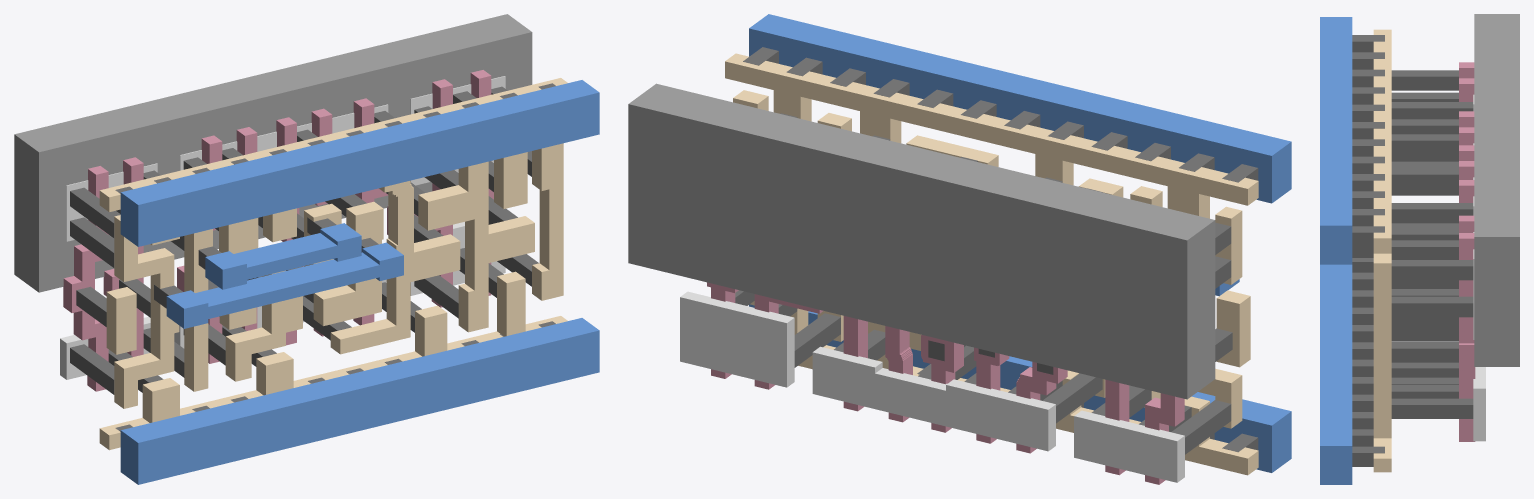
The model's file is sky130_fd_sc_hd__dlxtn_1.gds.gltf.
3 views of the same model, side by side, from view 1: azimuth 30°, elevation 25°; view 2: azimuth 150°, elevation 25°; view 3: azimuth 270°, elevation 25° (orthographic). The views are drawn at different scales.
Parts seen in each view (by area): view 1: sky130_fd_sc_hd__dlxtn_1_met1, sky130_fd_sc_hd__dlxtn_1_li1, sky130_fd_sc_hd__dlxtn_1_nwell, sky130_fd_sc_hd__dlxtn_1_licon, sky130_fd_sc_hd__dlxtn_1_poly, sky130_fd_sc_hd__dlxtn_1_diff, sky130_fd_sc_hd__dlxtn_1_mcon; view 2: sky130_fd_sc_hd__dlxtn_1_nwell, sky130_fd_sc_hd__dlxtn_1_li1, sky130_fd_sc_hd__dlxtn_1_met1, sky130_fd_sc_hd__dlxtn_1_diff, sky130_fd_sc_hd__dlxtn_1_poly, sky130_fd_sc_hd__dlxtn_1_licon, sky130_fd_sc_hd__dlxtn_1_mcon; view 3: sky130_fd_sc_hd__dlxtn_1_licon, sky130_fd_sc_hd__dlxtn_1_nwell, sky130_fd_sc_hd__dlxtn_1_met1, sky130_fd_sc_hd__dlxtn_1_mcon, sky130_fd_sc_hd__dlxtn_1_li1, sky130_fd_sc_hd__dlxtn_1_poly, sky130_fd_sc_hd__dlxtn_1_diff.
Boxes of the visible parts, x1,y1,x2,y2 form: sky130_fd_sc_hd__dlxtn_1_met1: (120, 80, 599, 484); sky130_fd_sc_hd__dlxtn_1_li1: (99, 78, 567, 450); sky130_fd_sc_hd__dlxtn_1_nwell: (14, 14, 532, 292); sky130_fd_sc_hd__dlxtn_1_licon: (70, 86, 538, 394); sky130_fd_sc_hd__dlxtn_1_poly: (63, 70, 493, 391); sky130_fd_sc_hd__dlxtn_1_diff: (60, 76, 505, 379); sky130_fd_sc_hd__dlxtn_1_mcon: (115, 83, 555, 431); sky130_fd_sc_hd__dlxtn_1_nwell: (628, 83, 1215, 399); sky130_fd_sc_hd__dlxtn_1_li1: (725, 53, 1258, 475); sky130_fd_sc_hd__dlxtn_1_met1: (749, 14, 1291, 472); sky130_fd_sc_hd__dlxtn_1_diff: (680, 291, 1184, 482); sky130_fd_sc_hd__dlxtn_1_poly: (707, 282, 1184, 484); sky130_fd_sc_hd__dlxtn_1_licon: (735, 113, 1232, 454); sky130_fd_sc_hd__dlxtn_1_mcon: (743, 47, 1258, 452); sky130_fd_sc_hd__dlxtn_1_licon: (1391, 70, 1473, 418); sky130_fd_sc_hd__dlxtn_1_nwell: (1474, 14, 1519, 366); sky130_fd_sc_hd__dlxtn_1_met1: (1320, 17, 1352, 484); sky130_fd_sc_hd__dlxtn_1_mcon: (1352, 35, 1384, 466); sky130_fd_sc_hd__dlxtn_1_li1: (1373, 29, 1391, 472); sky130_fd_sc_hd__dlxtn_1_poly: (1459, 62, 1475, 441); sky130_fd_sc_hd__dlxtn_1_diff: (1473, 94, 1485, 441).
Size of the model in its own units: 5.9 by 3.2 by 2.24.
